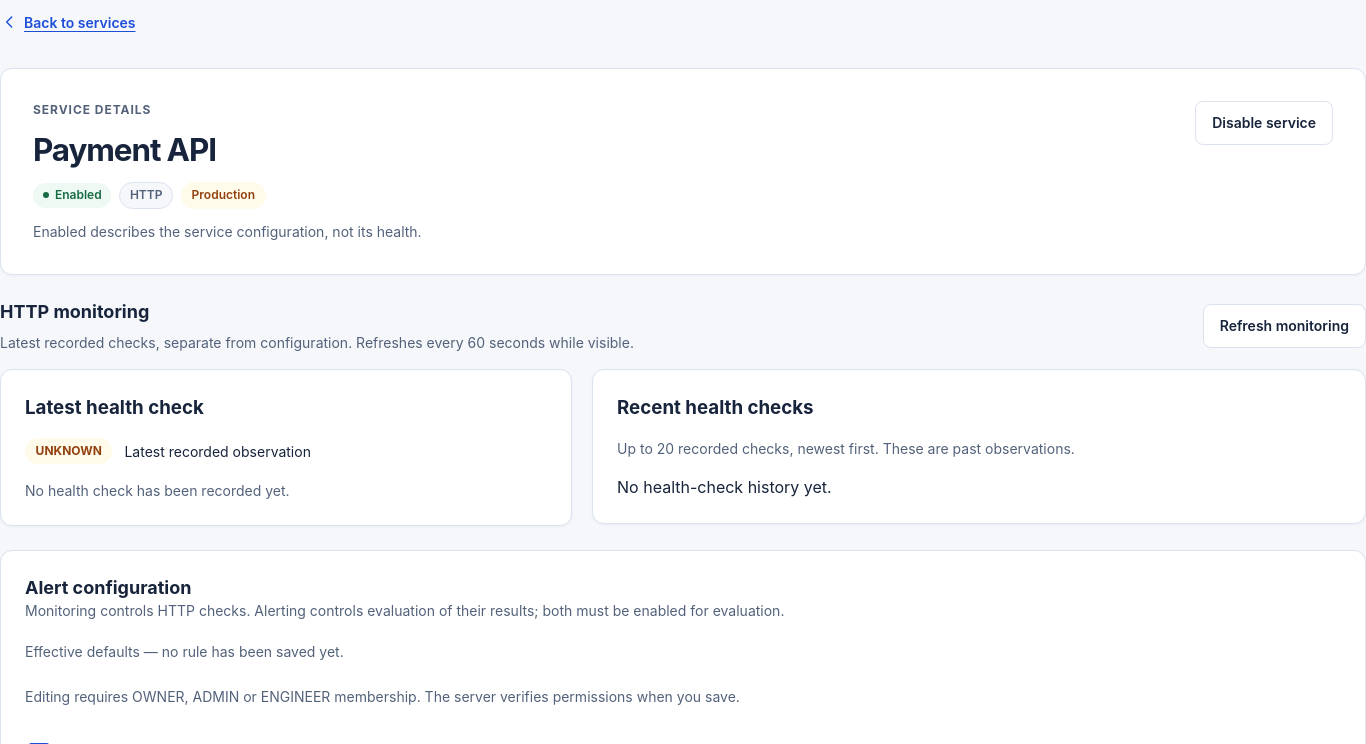
Test: confirmation changes enabled=true and invalidates both existing query keys
The image size is (1366, 744).
Step 1. Click the button "Disable service" → [1264, 123], box [1195, 101, 1333, 145]
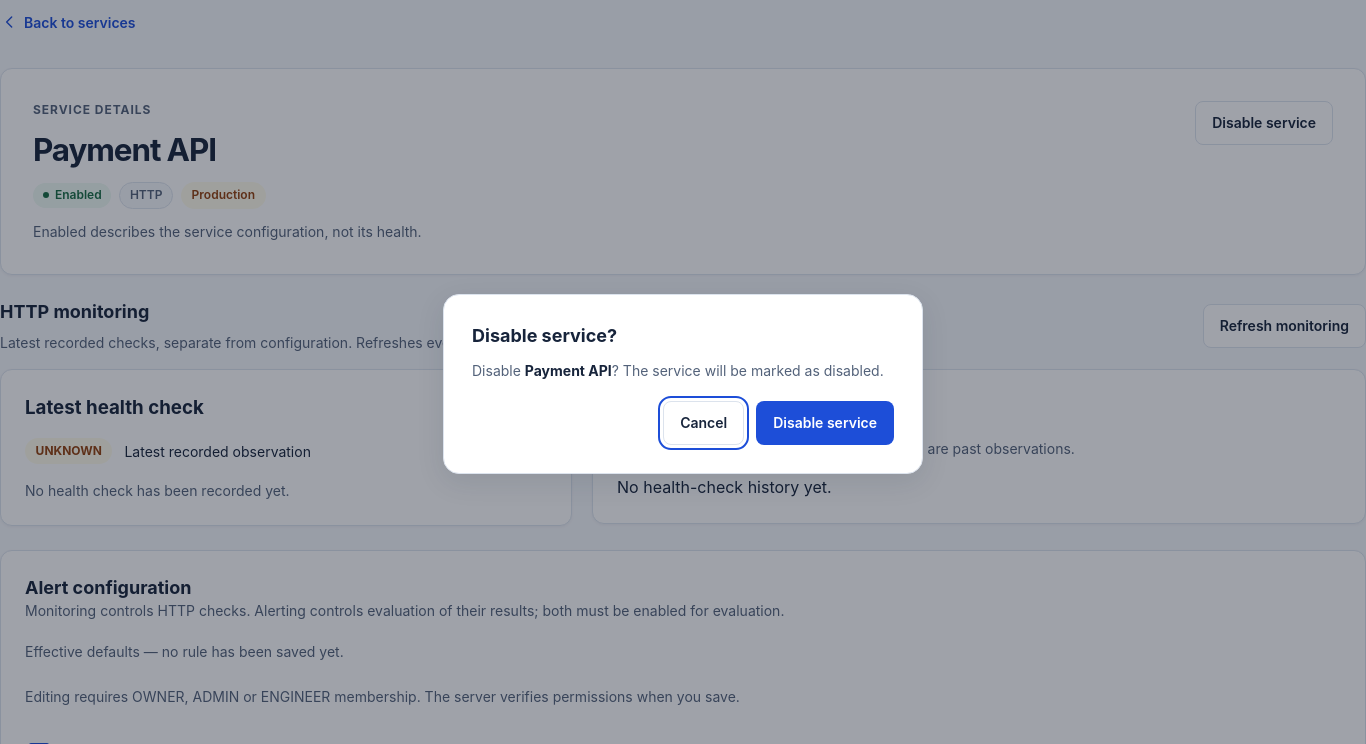
Step 2. Click the button "Disable service" → [825, 423], box [756, 401, 894, 445]
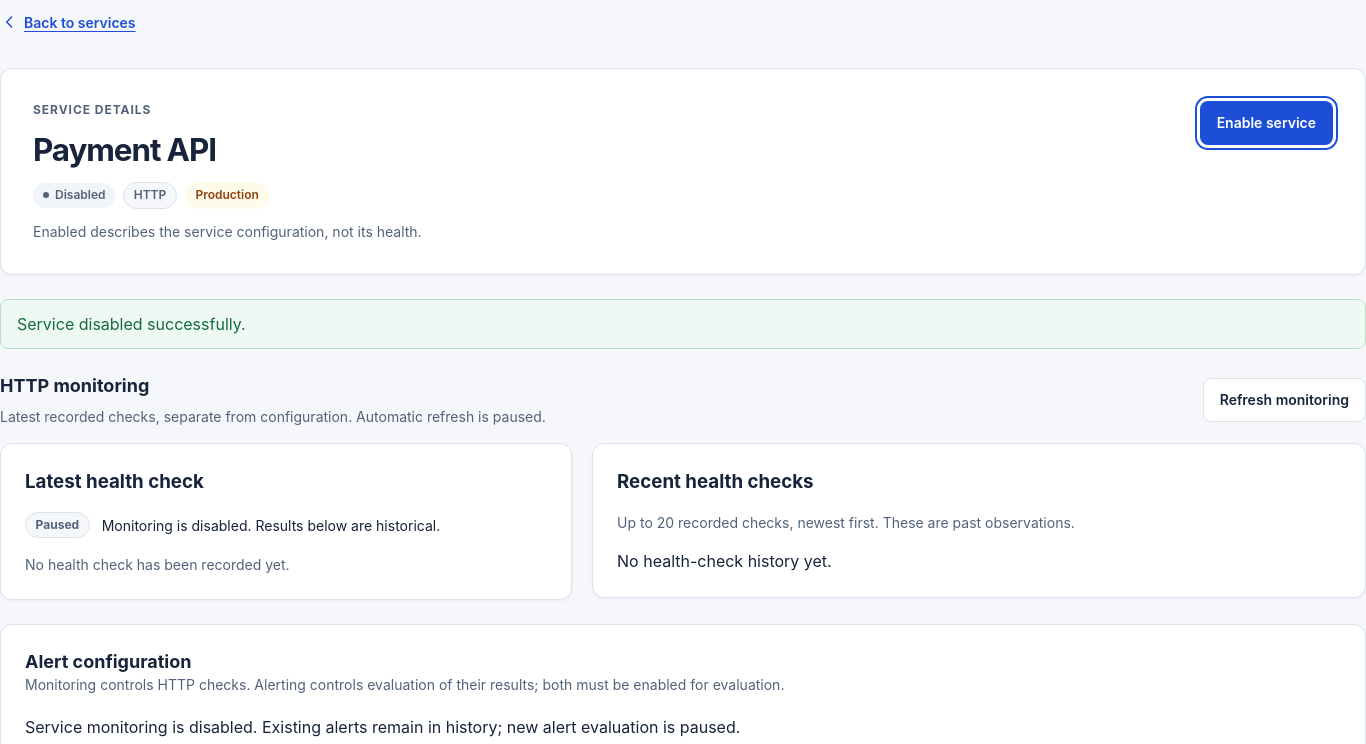
Check: the message reads "Service disabled successfully.", box [17, 314, 246, 334]
Check: the dialog is gone
